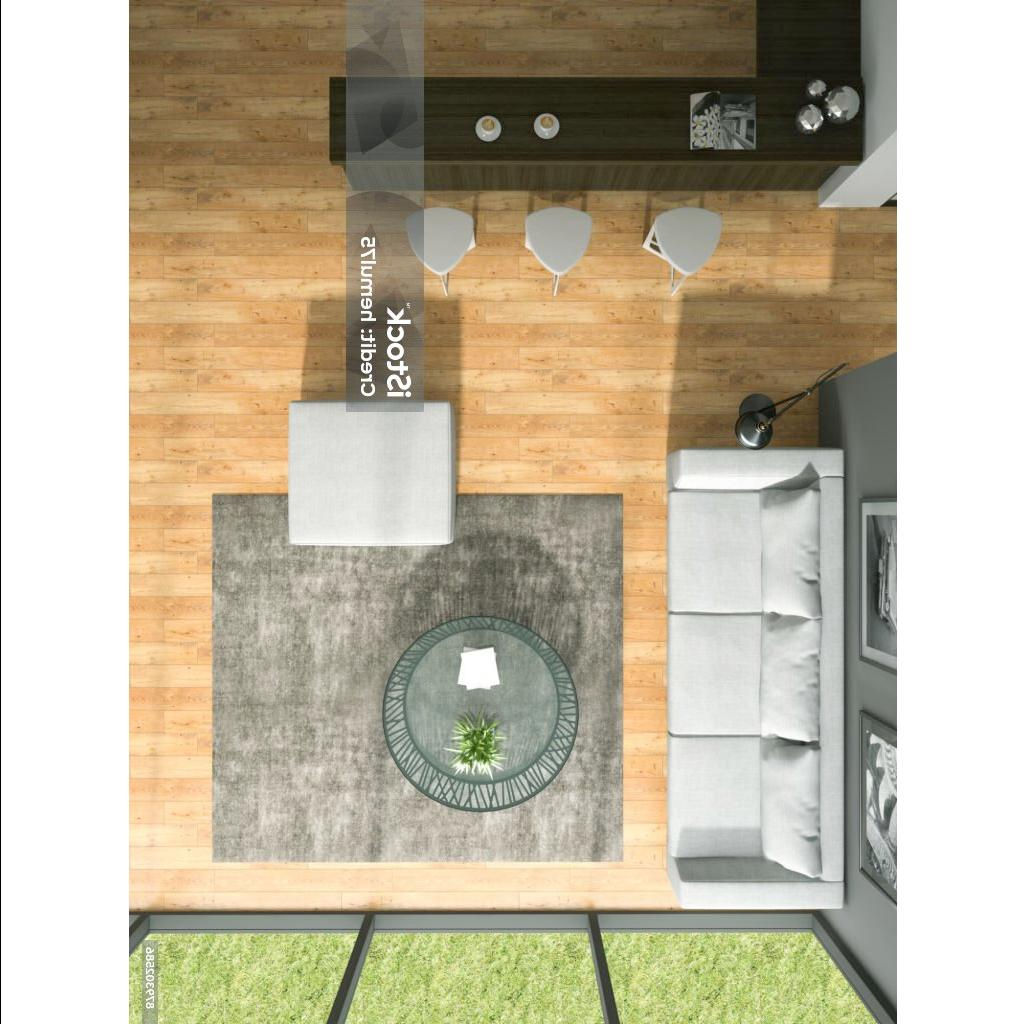bar counter: (326, 8, 858, 166)
coffee table: (382, 616, 576, 814)
floor lamp: (732, 386, 780, 432)
ottoman: (287, 399, 451, 543)
rug: (222, 501, 622, 865)
sofa: (663, 448, 847, 912)
stool: (522, 203, 590, 277), (407, 204, 473, 276), (653, 204, 719, 274)
window: (330, 1000, 608, 1022), (611, 1000, 883, 1022), (132, 1000, 326, 1022)
